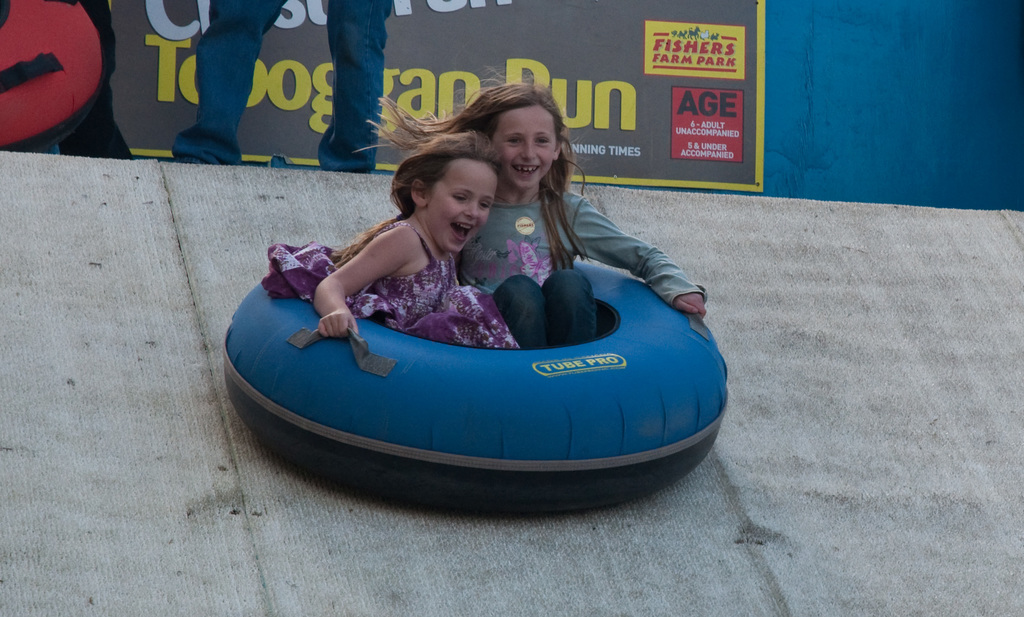Person: (309, 130, 526, 350), (170, 0, 393, 175)
